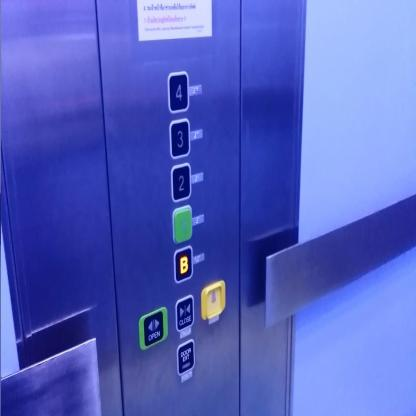1: (172, 203, 194, 244)
2: (170, 162, 192, 204)
3: (168, 114, 191, 162)
4: (165, 68, 190, 115)
B: (172, 244, 194, 284)
alarm: (199, 278, 226, 323)
close: (173, 292, 196, 332)
open: (137, 304, 168, 352)
text: (175, 335, 197, 377)
